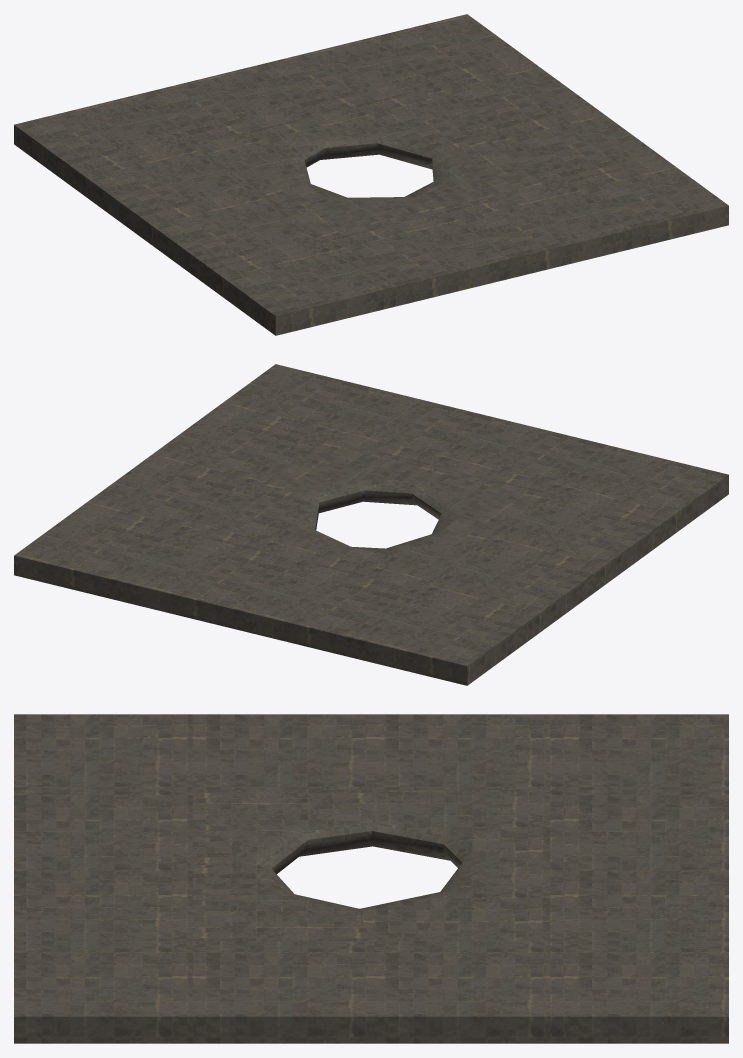
Rendered from CeilingHole.fbx.
3 renders of one model, top to bottom at view 1: azimuth 30°, elevation 25°; view 2: azimuth 150°, elevation 25°; view 3: azimuth 270°, elevation 25°, orthographic. The views are drawn at different scales.
Parts seen in each view (by area): view 1: Ceiling10x10; view 2: Ceiling10x10; view 3: Ceiling10x10.
Part boxes in pixels (x1,y1,x2,y2): Ceiling10x10: (14,14,728,335); Ceiling10x10: (14,364,728,685); Ceiling10x10: (14,714,728,1043).
Size of the model in its own units: 1000 by 41.46 by 1000.
